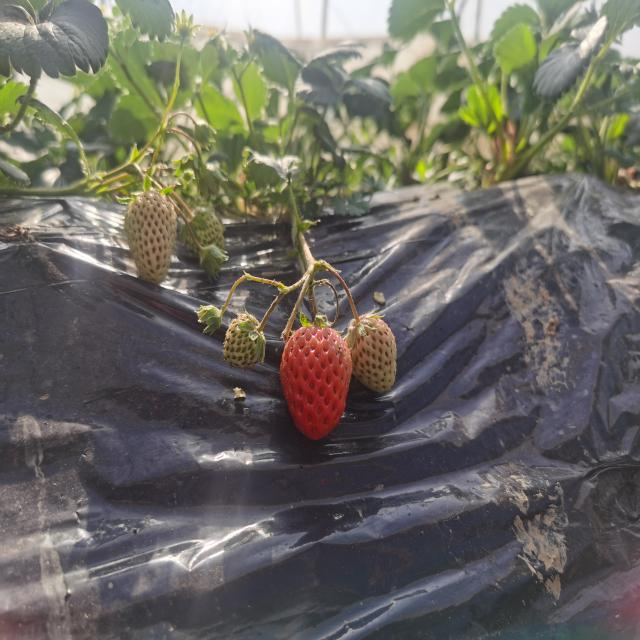stem: (308, 294, 317, 326)
strawberry: (279, 323, 352, 442)
